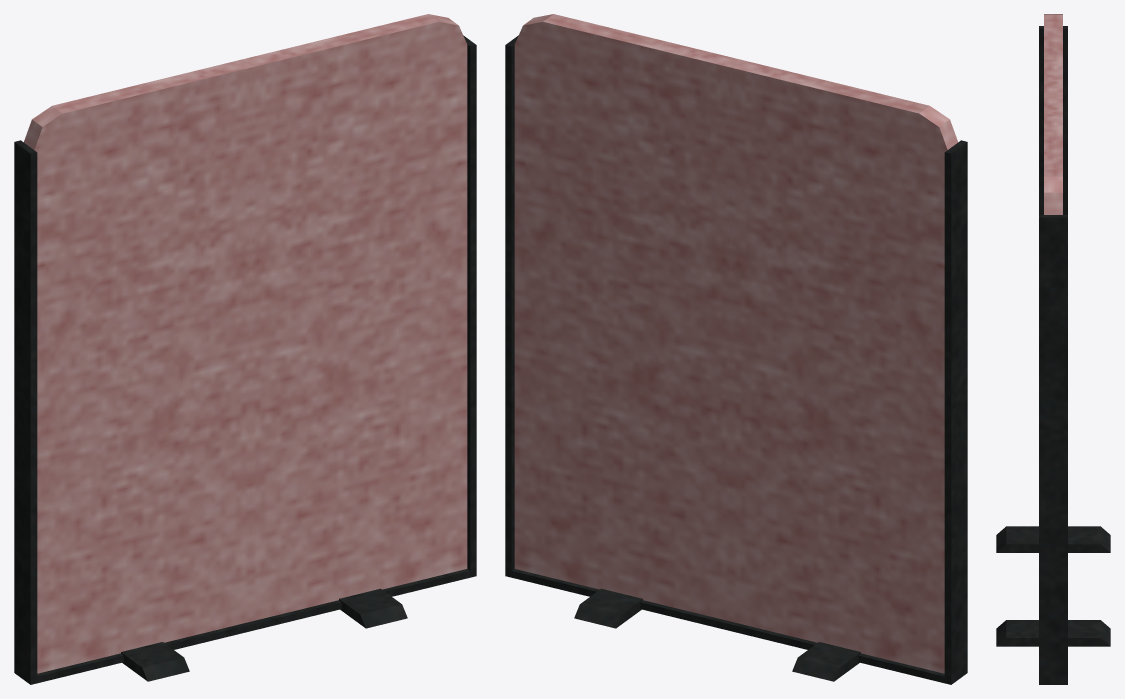
File: divider_black_red_half.fbx
3 views of the same model, side by side, from view 1: azimuth 30°, elevation 25°; view 2: azimuth 150°, elevation 25°; view 3: azimuth 270°, elevation 25° (orthographic). The views are drawn at different scales.
Parts seen in each view (by area): view 1: divider_black_red_half; view 2: divider_black_red_half; view 3: divider_black_red_half.
Part boxes in pixels (<box>): divider_black_red_half: <box>14,14,476,684</box>; divider_black_red_half: <box>505,14,967,684</box>; divider_black_red_half: <box>996,14,1110,684</box>.
Size of the model in its own units: 207 by 250 by 52.3.
1 material, 1 textured.
